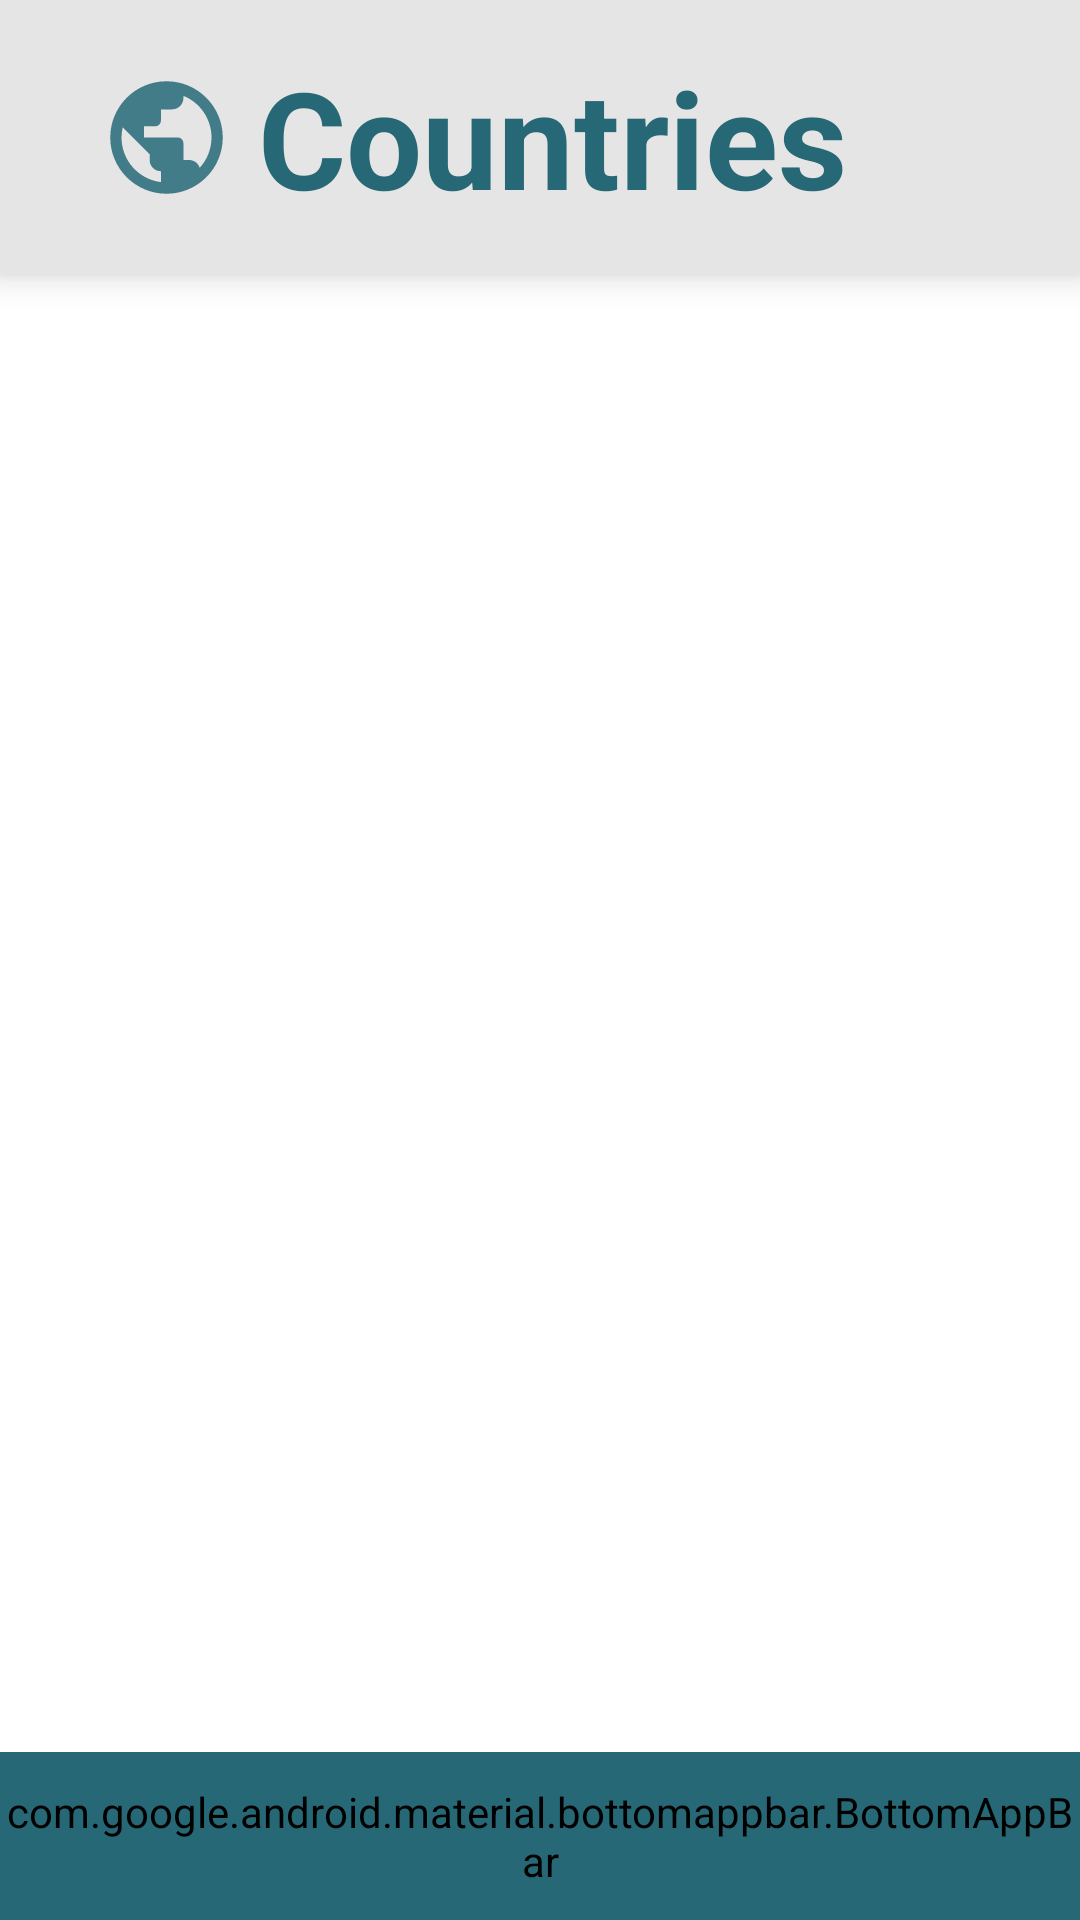

Icon click points for this 1080*1920 phone screenshot, format (x,y):
globe country: (166,137)
